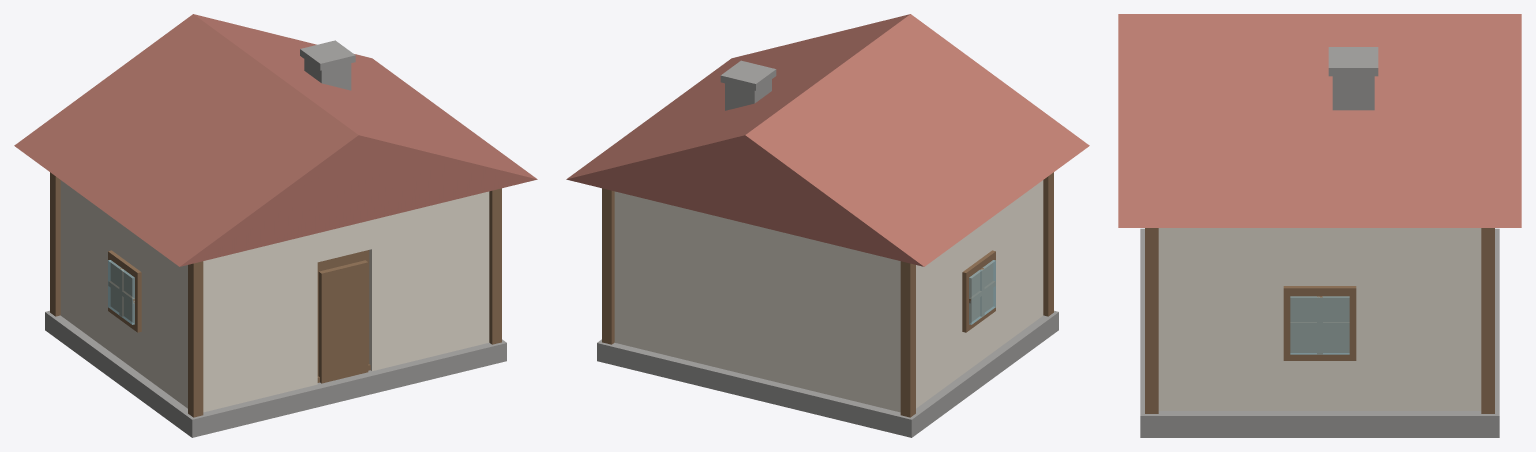
The model's file is BLD-cottage-02.glb.
3 renders of one model, left to right at view 1: azimuth 30°, elevation 25°; view 2: azimuth 150°, elevation 25°; view 3: azimuth 270°, elevation 25°, orthographic. The views are drawn at different scales.
Parts seen in each view (by area): view 1: BLD-cottage-02; view 2: BLD-cottage-02; view 3: BLD-cottage-02.
Boxes of the visible parts, left/top/right/bottom form: BLD-cottage-02: left=14, top=14, right=537, bottom=437; BLD-cottage-02: left=566, top=14, right=1089, bottom=437; BLD-cottage-02: left=1118, top=14, right=1521, bottom=437.
Bounding box in the file's own units: 6.6 × 4.77 × 5.28.
